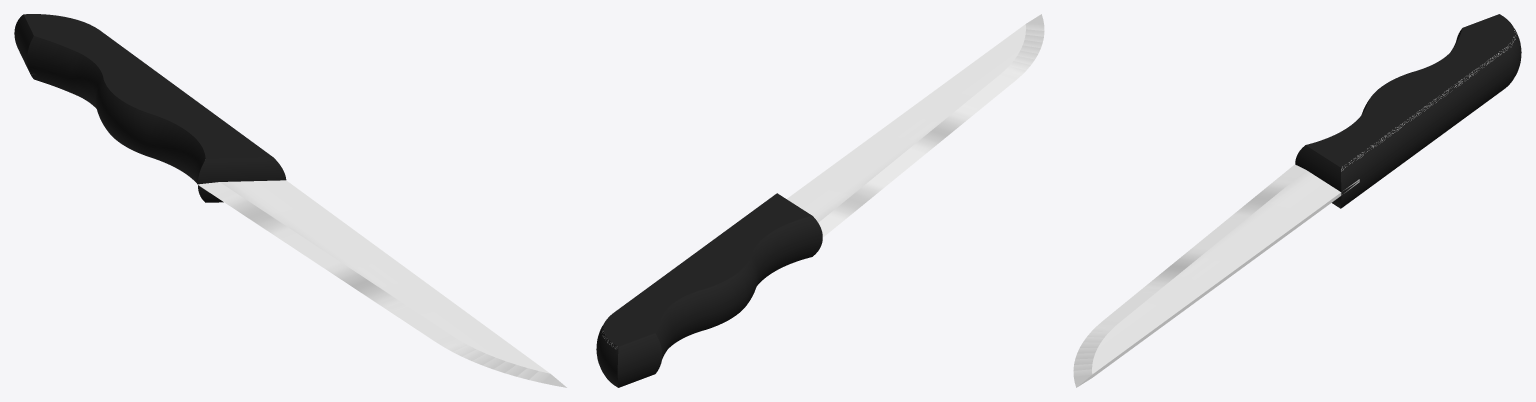
The model's file is knife_05_origin.dae.
3 views of the same model, side by side, from view 1: azimuth 30°, elevation 25°; view 2: azimuth 150°, elevation 25°; view 3: azimuth 330°, elevation 25° (orthographic). The views are drawn at different scales.
Parts seen in each view (by area): view 1: Group_4 (×2); view 2: Group_4 (×2); view 3: Group_4 (×3).
Boxes of the visible parts, bbox=[...] form: Group_4 (×2): bbox=[14, 14, 550, 382]; Group_4 (×2): bbox=[596, 24, 1044, 387]; Group_4 (×3): bbox=[1073, 14, 1521, 386].
Bounding box in the file's own units: 0.7839 × 9.83 × 0.4724.
Materials: 4 (1 with a texture image).
